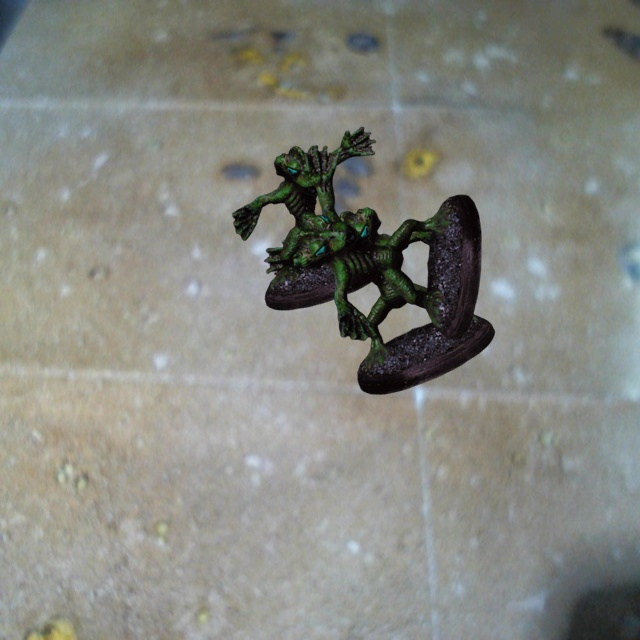pieza_juego: (264, 207, 494, 394), (295, 146, 481, 340), (232, 127, 381, 310)
